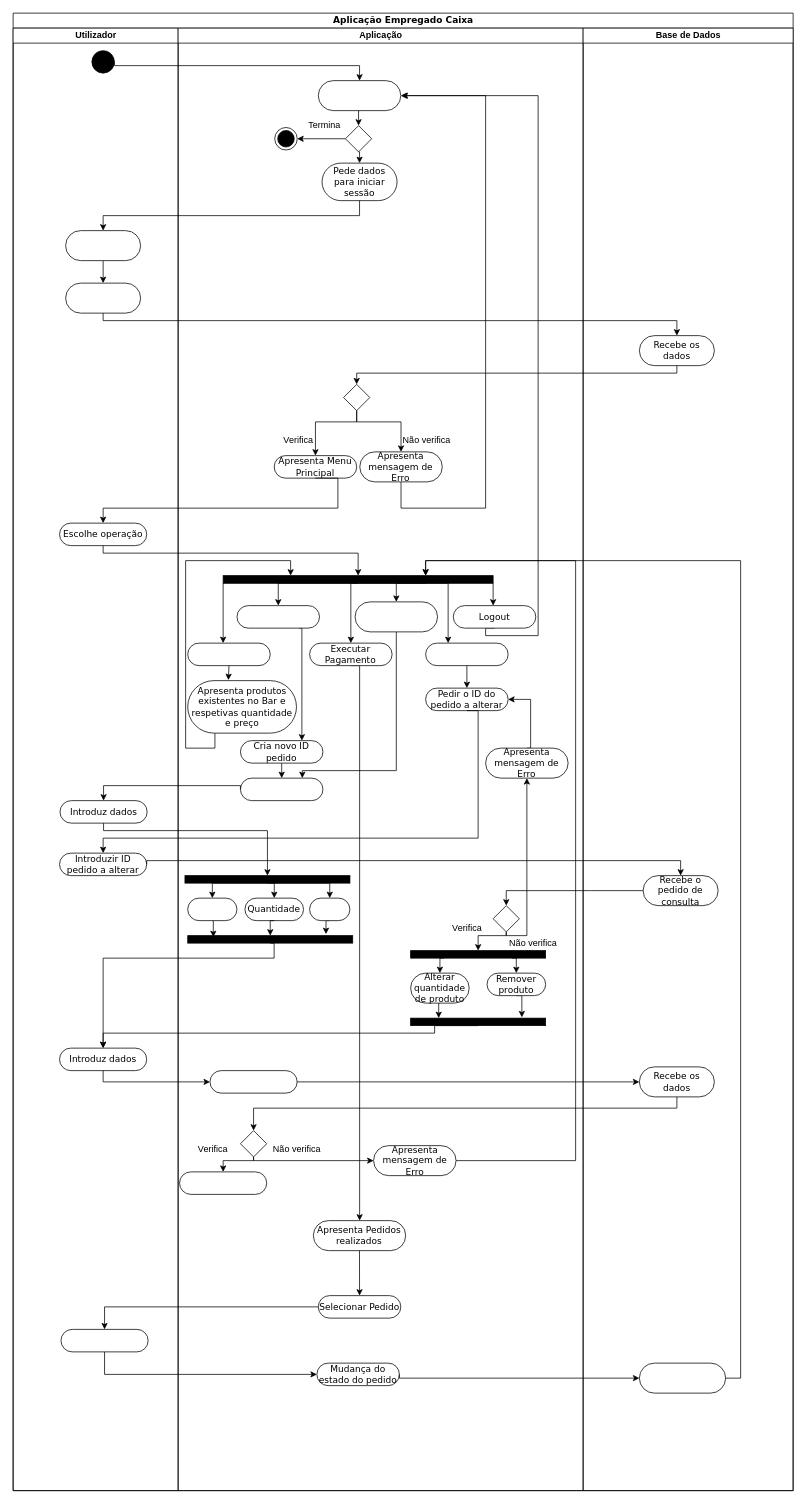
Image size: 806x1504. Some labels were removed from this diagram. Here are the shapes that lost their labels. From the top down, the box of each, then its label:
(318, 80, 401, 111): Apresenta página de Login
(65, 230, 141, 261): Introduz userID e password
(65, 282, 141, 313): Envia os dados
(236, 605, 320, 628): Realizar novo pedido
(354, 601, 438, 632): Requisitar Produtos Armazém
(187, 642, 270, 666): Consultar Produtos
(425, 642, 508, 666): Alterar pedido
(240, 777, 323, 801): Pede dados
(187, 897, 237, 921): ID Produto
(309, 897, 350, 921): Nome
(209, 1070, 297, 1093): Verifica na base de dados
(179, 1171, 267, 1194): Introduz os dados na base de dados
(60, 1329, 148, 1352): Aceita pagamento
(639, 1362, 726, 1393): Atualiza dados na base de dados
